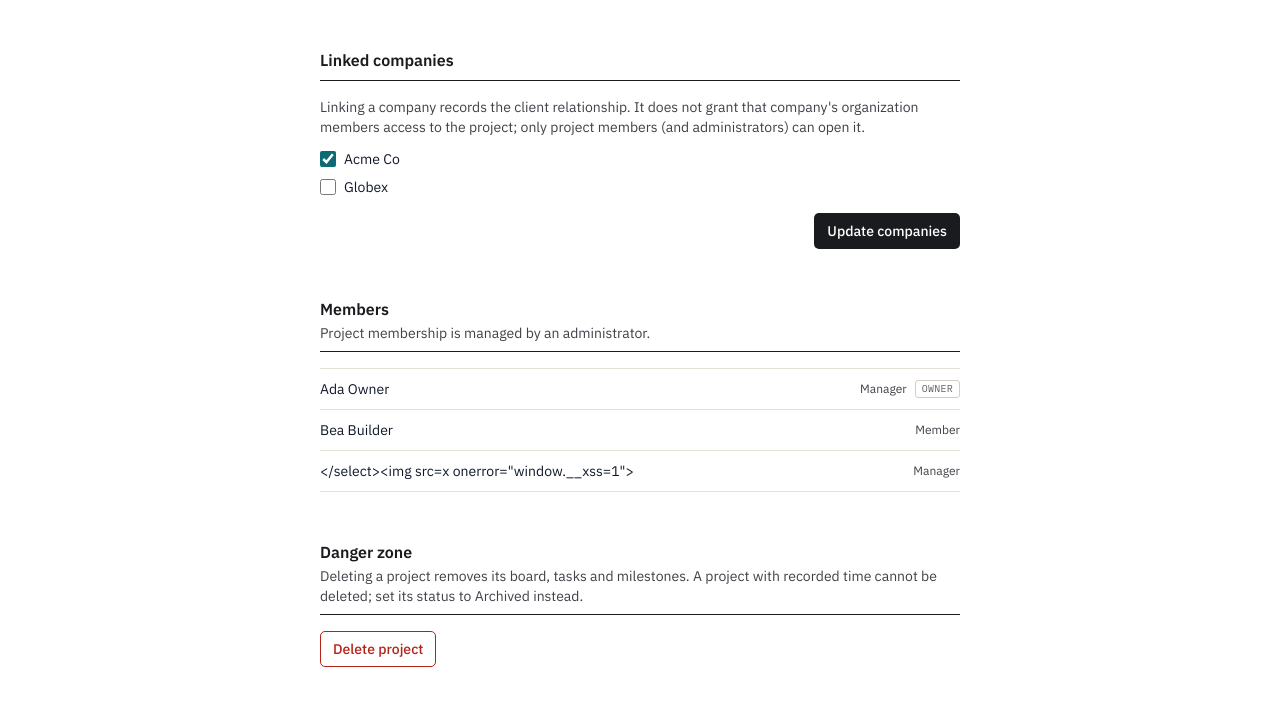
Test: asks for confirmation before deleting and does nothing until it is given
(page scrolled)
Step 1. Click the button "Delete project" → point(378, 649), box [320, 631, 436, 667]
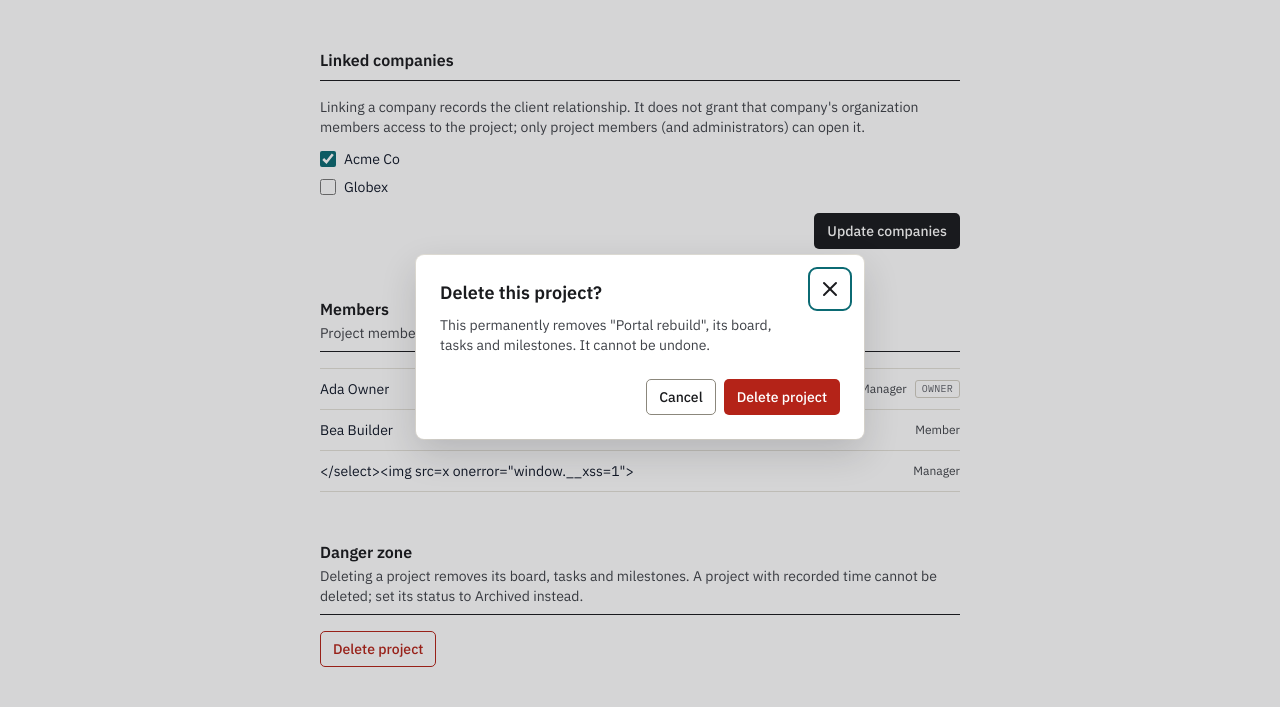
Step 2. Click the button "Cancel" → point(681, 397), box [646, 379, 716, 415]
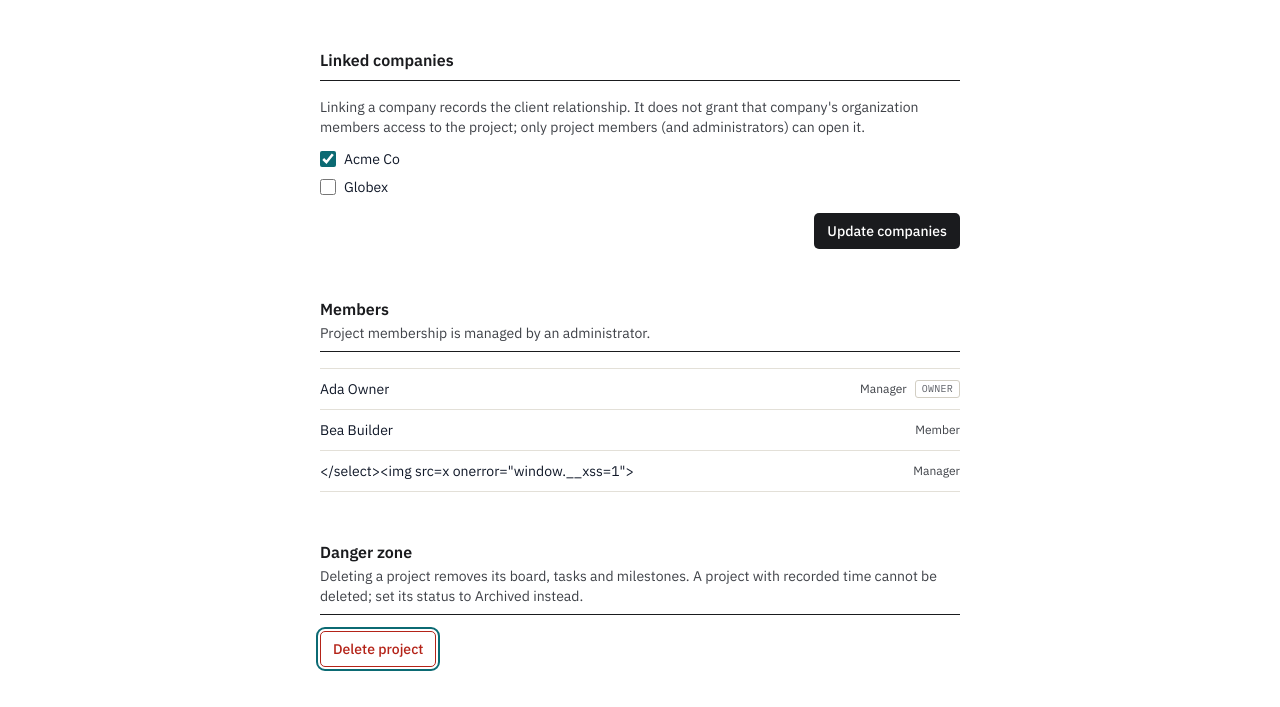
Result: the dialog is gone
